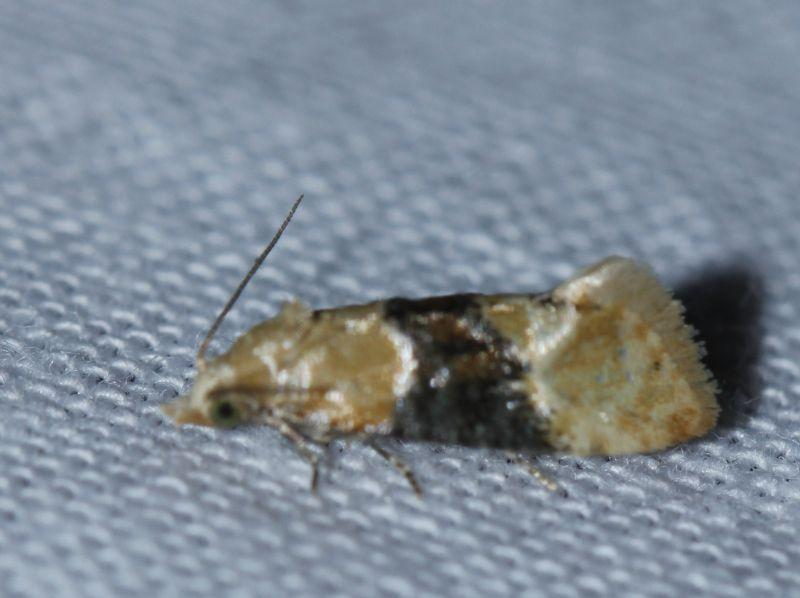Eupoecilia Ambiguella: (158, 191, 723, 498)
